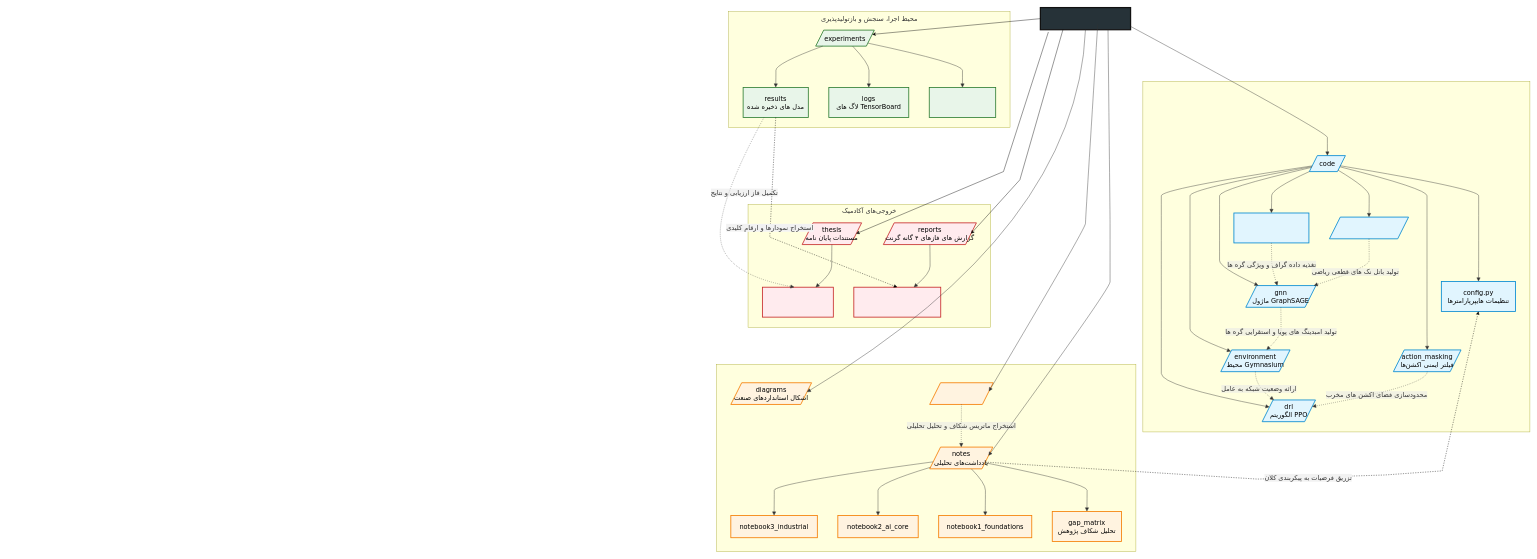
This 1537x559 diagram has some shape labels left out. The box of each missing label's shape, as (x1, y1, x2, y2) in pixels:
chapters نگارش فصول ۱ تا ۵: (762, 287, 834, 317)
configs سناریوهای ترافیکی: (929, 87, 996, 118)
data_loader.py لودر ترافیک NWDAF: (1233, 212, 1309, 243)
papers PDF مقالات اصلی: (929, 382, 993, 405)
phase1 پیش‌ نویس گزارش نهایی فعلی: (853, 287, 941, 317)
topology_optimizer درخت Gomory-Hu: (1329, 216, 1409, 239)
زیرساخت تئوریک و اسناد مرجع: (716, 364, 1136, 552)
لایه پیاده‌ سازی و توسعه نرم‌ افزار: (1142, 81, 1530, 432)
📦 NeuroBottleneck /: (1040, 7, 1131, 30)
